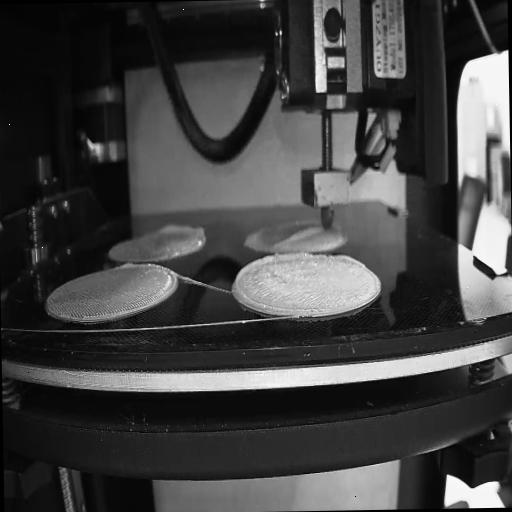over_extrusion: (234, 250, 312, 318), (272, 226, 326, 248), (155, 221, 206, 241), (329, 252, 367, 272), (114, 260, 141, 270)
